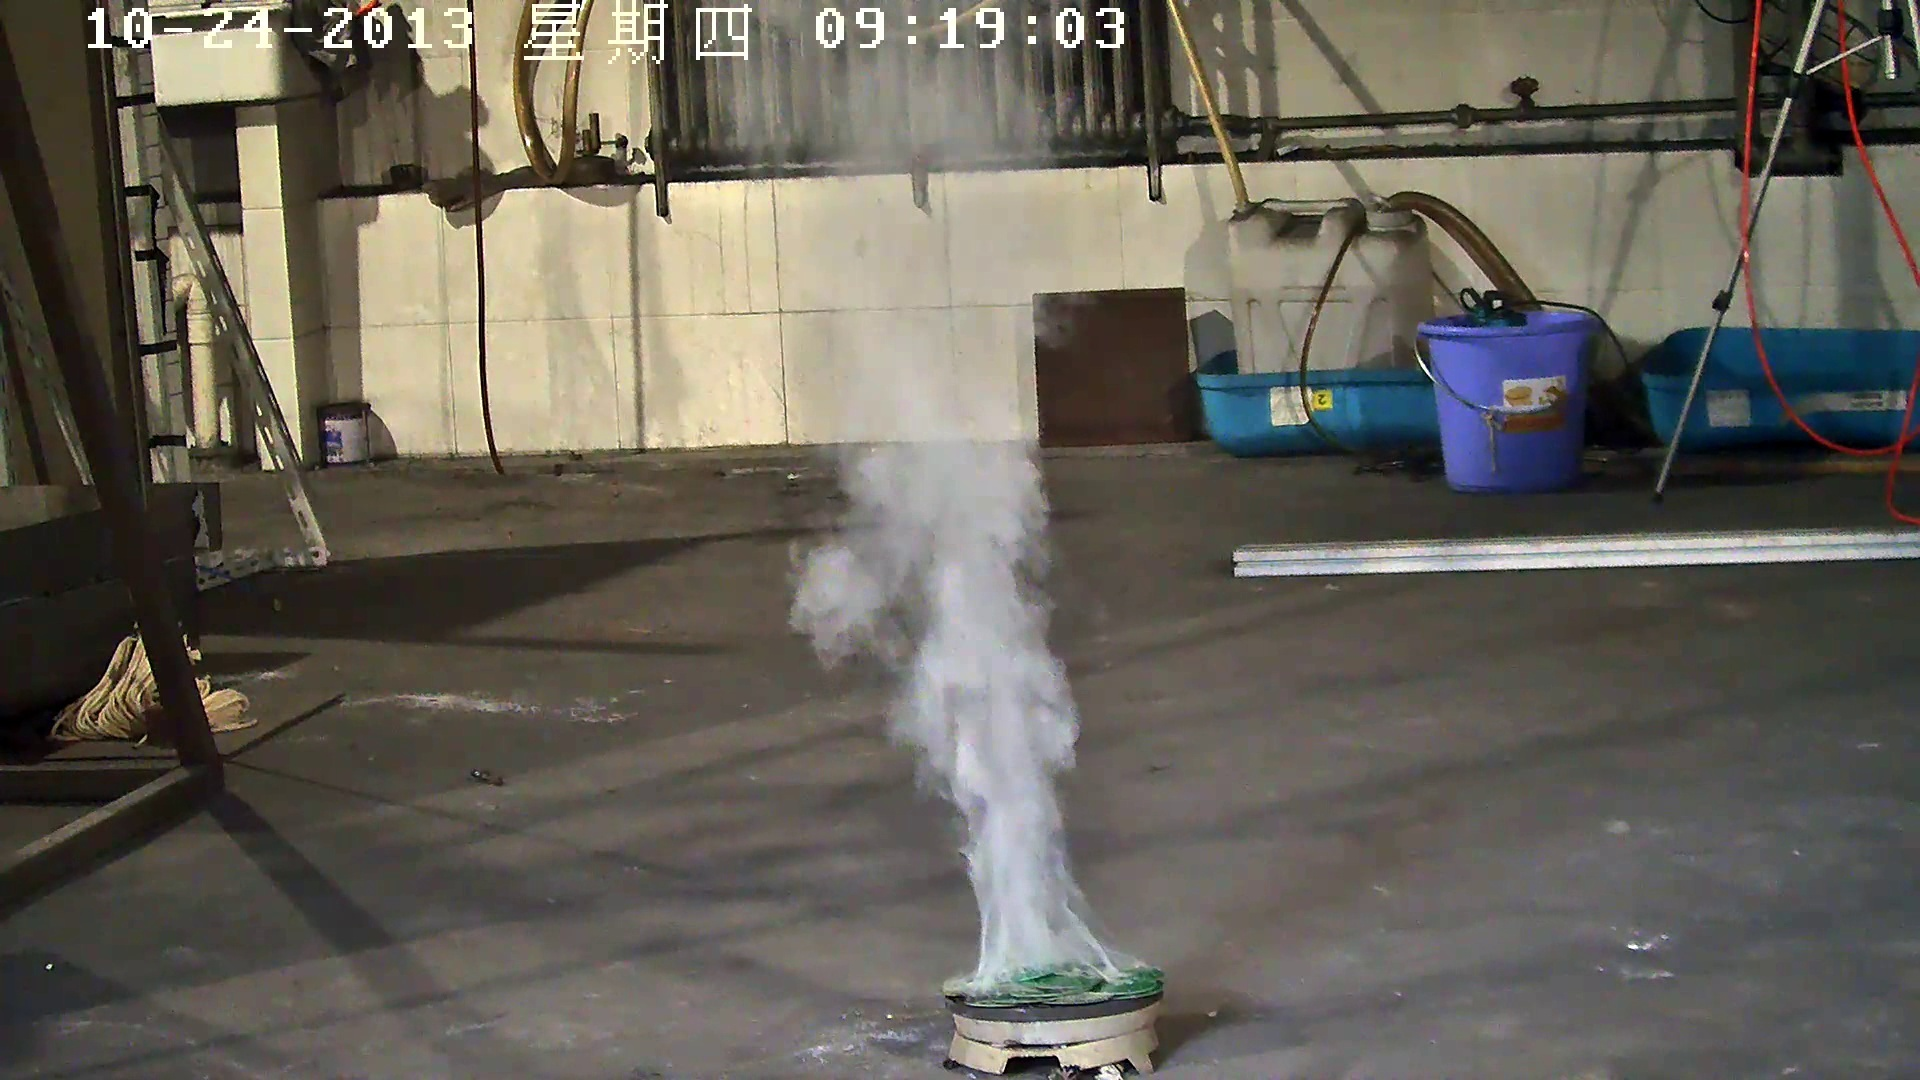smoke: (738, 63, 1160, 1005)
